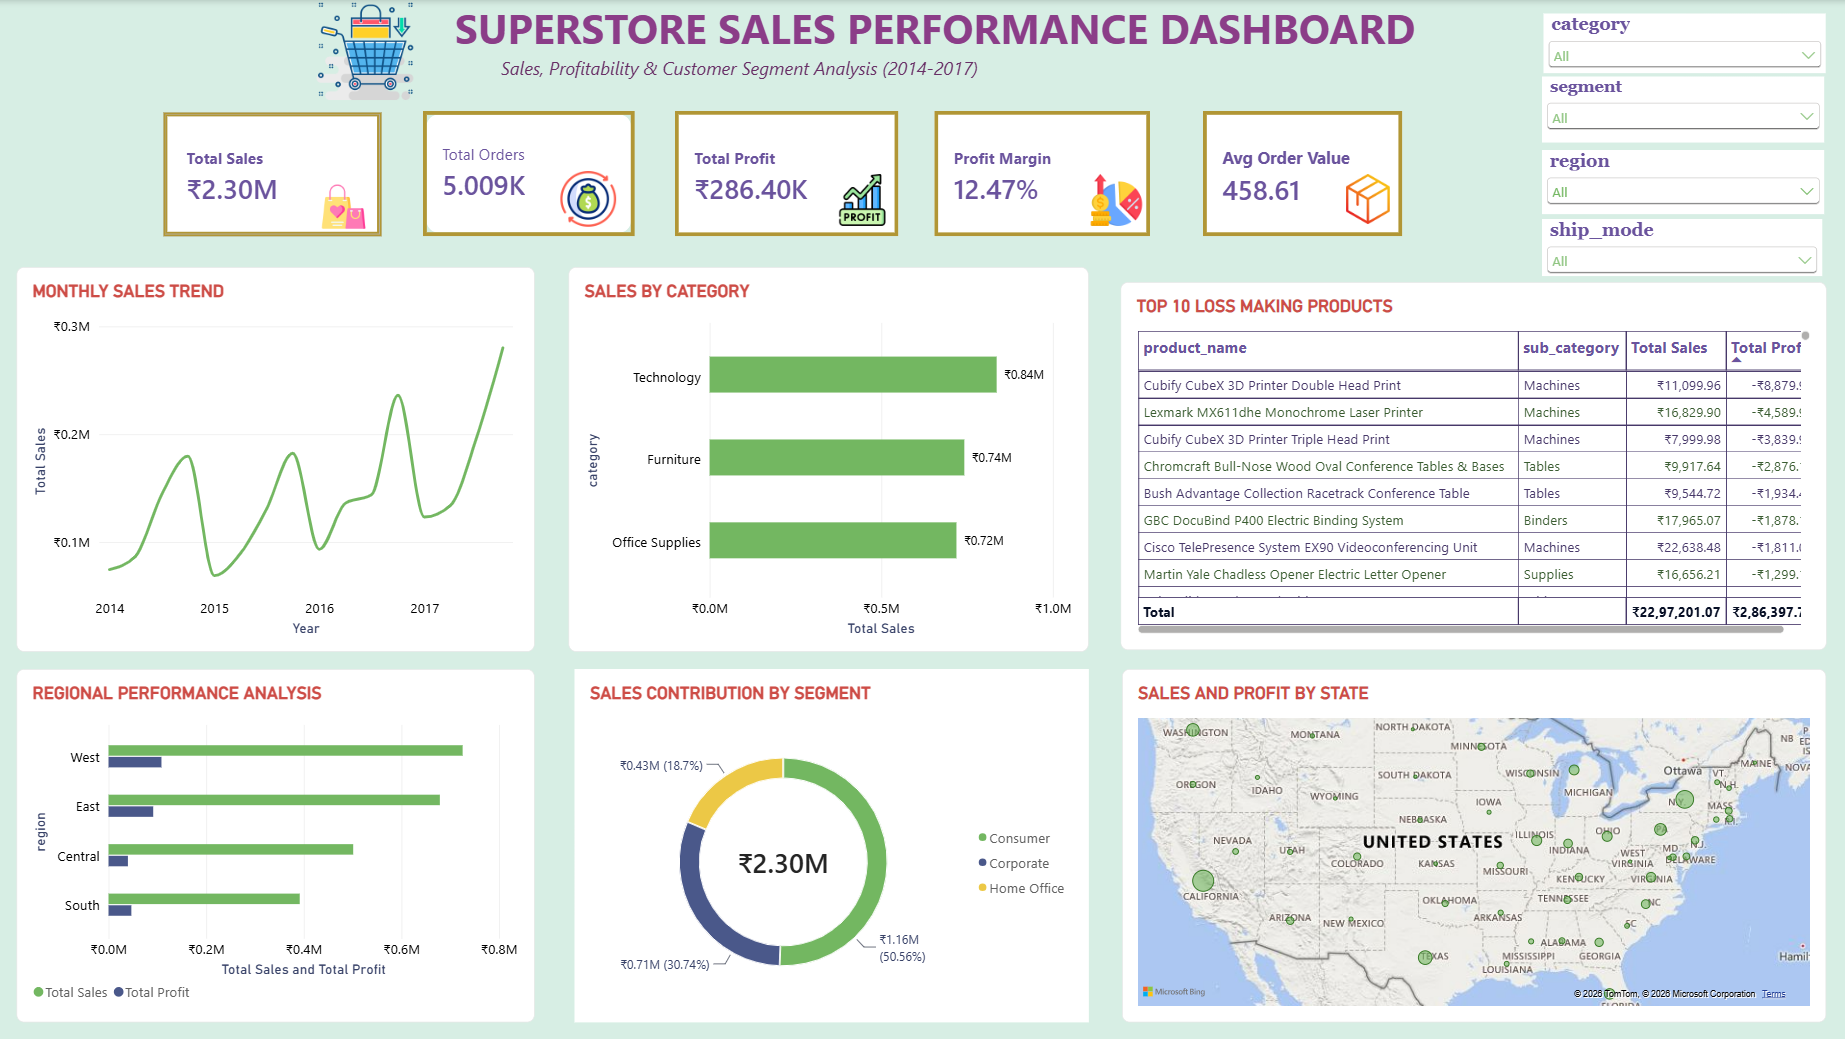

The dashboard page shown, as its layout file describes it:
{"tool":"powerbi","page":{"name":"Executive Sales Overview","canvas":[1920,1080],"ordinal":0},"visuals":[{"type":"cardVisual","fields":{"Data":["superstore_db orders.Total Sales"]},"box":[169.9,117.2,226.5,128.9],"z":0},{"type":"cardVisual","fields":{"Data":["superstore_db orders.Total Profit"]},"box":[701,115.2,232.4,130.8],"z":1000},{"type":"cardVisual","fields":{"Data":["superstore_db orders.Total Orders"]},"box":[439.3,115.2,220.6,130.8],"z":2000},{"type":"cardVisual","fields":{"Data":["superstore_db orders.Profit Margin"]},"box":[971.4,115.9,224.5,130.8],"z":3000},{"type":"cardVisual","fields":{"Data":["superstore_db orders.Avg Order Value"]},"box":[1250.8,115.9,207.9,130.2],"z":4000},{"type":"lineChart","title":"MONTHLY SALES TREND","fields":{"Category":["superstore_db orders.order_date.Variation.Date Hierarchy.Year","superstore_db orders.order_date.Variation.Date Hierarchy.Quarter","superstore_db orders.order_date.Variation.Date Hierarchy.Month","superstore_db orders.order_date.Variation.Date Hierarchy.Day"],"Y":["superstore_db orders.Total Sales"]},"box":[17.6,277.3,538.9,400.3],"z":5000},{"type":"clusteredBarChart","title":"SALES BY CATEGORY","fields":{"Category":["superstore_db orders.category"],"Y":["superstore_db orders.Total Sales"]},"box":[591.6,277.3,540.9,400.3],"z":6000},{"type":"clusteredBarChart","title":"REGIONAL PERFORMANCE ANALYSIS ","fields":{"Category":["superstore_db orders.region"],"Y":["superstore_db orders.Total Sales","superstore_db orders.Total Profit"]},"box":[17.6,695.1,538.9,367.1],"z":7000},{"type":"donutChart","title":"SALES CONTRIBUTION BY SEGMENT","fields":{"Category":["superstore_db orders.segment"],"Y":["superstore_db orders.Total Sales"]},"box":[597.5,695.1,535,367.1],"z":8000},{"type":"slicer","fields":{"Values":["superstore_db orders.region"]},"box":[1602.8,155.9,293.5,66.5],"z":9000},{"type":"slicer","title":"CATEGORY","fields":{"Values":["superstore_db orders.category"]},"box":[1605.1,13.8,293.5,61.9],"z":10000},{"type":"slicer","fields":{"Values":["superstore_db orders.segment"]},"box":[1602.8,80.3,293.5,68.8],"z":11000},{"type":"tableEx","title":"TOP 10 LOSS MAKING PRODUCTS","fields":{"Values":["superstore_db orders.product_name","superstore_db orders.sub_category","superstore_db orders.Total Sales","superstore_db orders.Total Profit"]},"box":[1164.8,293.5,733.8,382.9],"z":12000},{"type":"textbox","box":[340,0,1264,150],"z":13000},{"type":"textbox","box":[80.3,57.3,1378.1,45.9],"z":14000},{"type":"image","box":[318,0,122,104],"z":15000},{"type":"image","box":[300.2,191.8,112,46],"z":16000},{"type":"image","box":[578.7,178.4,66,58],"z":17000},{"type":"image","box":[865.5,180.1,62,54],"z":18000},{"type":"image","box":[1133.3,166.7,54,82],"z":19000},{"type":"image","box":[1384.4,181.6,74,52],"z":20000},{"type":"map","title":"SALES AND PROFIT BY STATE","fields":{"Category":["superstore_db orders.state"],"Size":["Sum(superstore_db orders.sales)"]},"box":[1165.7,695.1,732.2,367.1],"z":20001},{"type":"slicer","fields":{"Values":["superstore_db orders.ship_mode"]},"box":[1602.8,227,291.2,59.6],"z":20002}]}

Visuals, with their boxes in screenshot pixels (x1, y1, x2, y2), scaled from the page's 1920x1080 canvas onto the 1845x1039 screenshot:
cardVisual - superstore_db orders.Total Sales: BBox(163, 113, 381, 237)
cardVisual - superstore_db orders.Total Profit: BBox(674, 111, 897, 237)
cardVisual - superstore_db orders.Total Orders: BBox(422, 111, 634, 237)
cardVisual - superstore_db orders.Profit Margin: BBox(933, 112, 1149, 237)
cardVisual - superstore_db orders.Avg Order Value: BBox(1202, 112, 1402, 237)
"MONTHLY SALES TREND" lineChart: BBox(17, 267, 535, 652)
"SALES BY CATEGORY" clusteredBarChart: BBox(568, 267, 1088, 652)
"REGIONAL PERFORMANCE ANALYSIS " clusteredBarChart: BBox(17, 669, 535, 1022)
"SALES CONTRIBUTION BY SEGMENT" donutChart: BBox(574, 669, 1088, 1022)
slicer - superstore_db orders.region: BBox(1540, 150, 1822, 214)
"CATEGORY" slicer: BBox(1542, 13, 1824, 73)
slicer - superstore_db orders.segment: BBox(1540, 77, 1822, 143)
"TOP 10 LOSS MAKING PRODUCTS" tableEx: BBox(1119, 282, 1824, 651)
textbox: BBox(327, 0, 1541, 144)
textbox: BBox(77, 55, 1401, 99)
image: BBox(306, 0, 423, 100)
image: BBox(288, 185, 396, 229)
image: BBox(556, 172, 620, 227)
image: BBox(832, 173, 891, 225)
image: BBox(1089, 160, 1141, 239)
image: BBox(1330, 175, 1401, 225)
"SALES AND PROFIT BY STATE" map: BBox(1120, 669, 1824, 1022)
slicer - superstore_db orders.ship_mode: BBox(1540, 218, 1820, 276)
